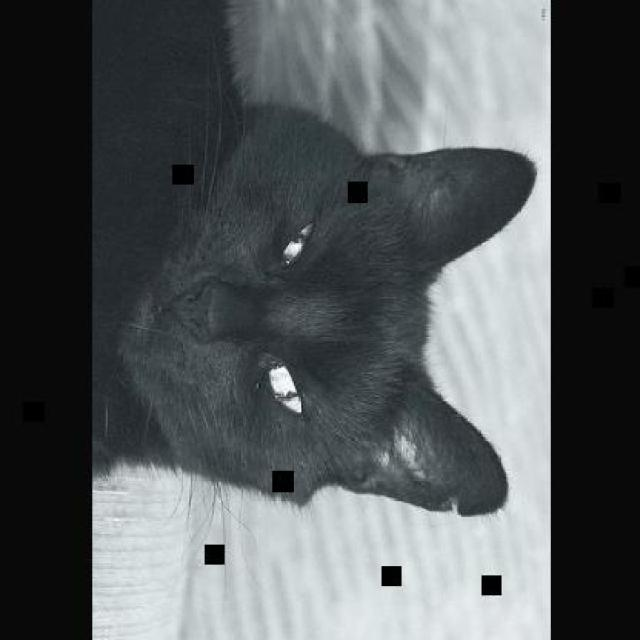unauthorized: (92, 90, 537, 532)
